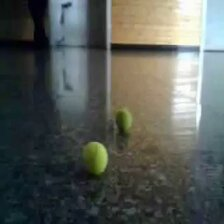tennis: (81, 141, 108, 176), (114, 108, 133, 134)
